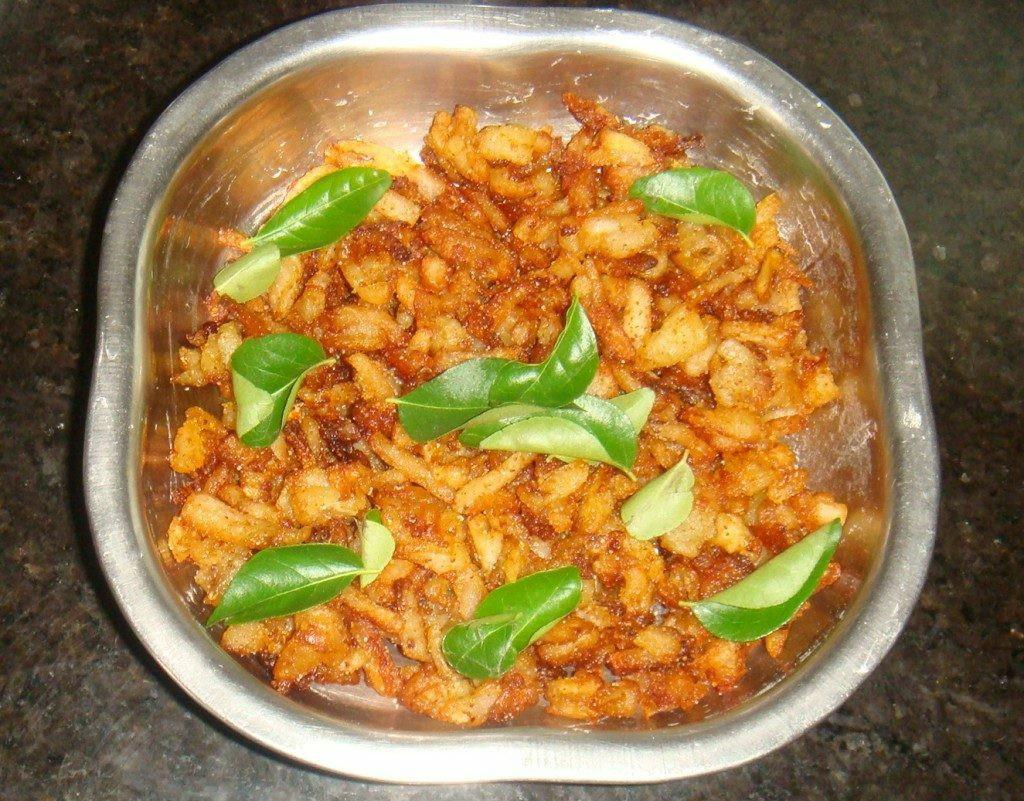AlooMasala: (168, 89, 848, 726)
